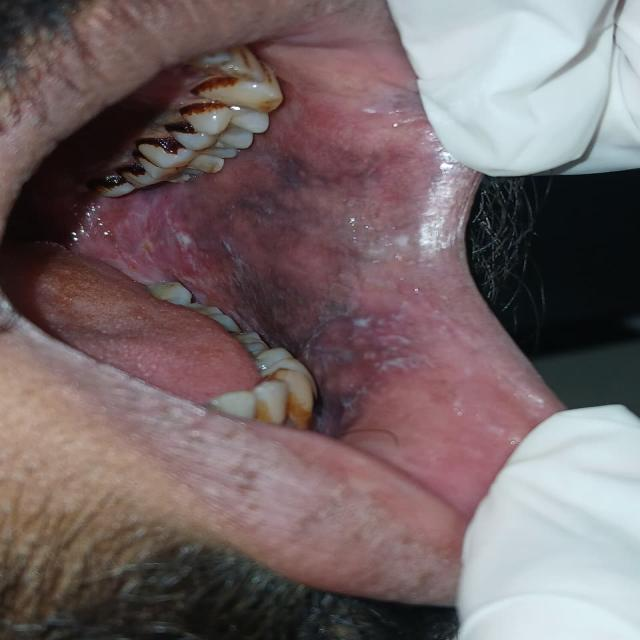leukoplakia-like-detection: (72, 92, 432, 441)
processing_area: (29, 39, 519, 463)
